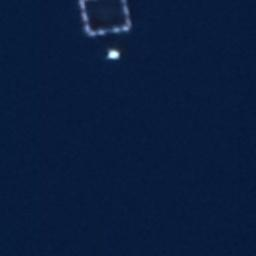square_solid: (73, 1, 139, 40)
